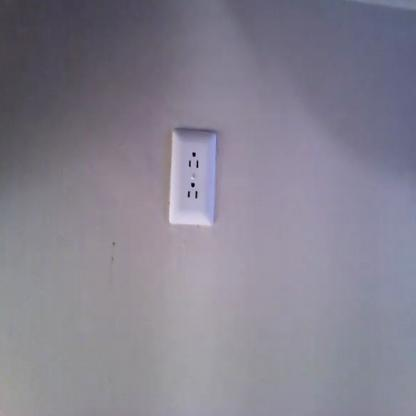OUTLET: (168, 132, 216, 224)
